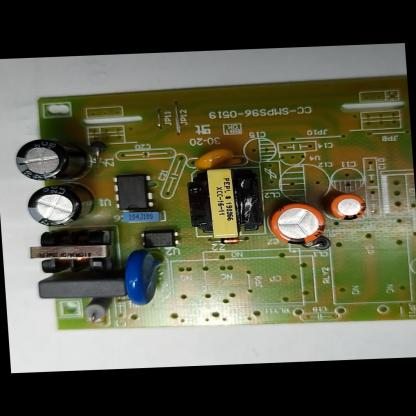Cap1: (268, 201, 328, 245)
Cap2: (327, 192, 368, 223)
Cap3: (24, 183, 97, 229)
Cap4: (12, 136, 95, 182)
MOSFET: (113, 174, 156, 212)
Mov: (120, 247, 173, 306)
Resistor: (83, 296, 116, 321)
Transformer: (185, 164, 267, 241), (24, 227, 118, 279)
